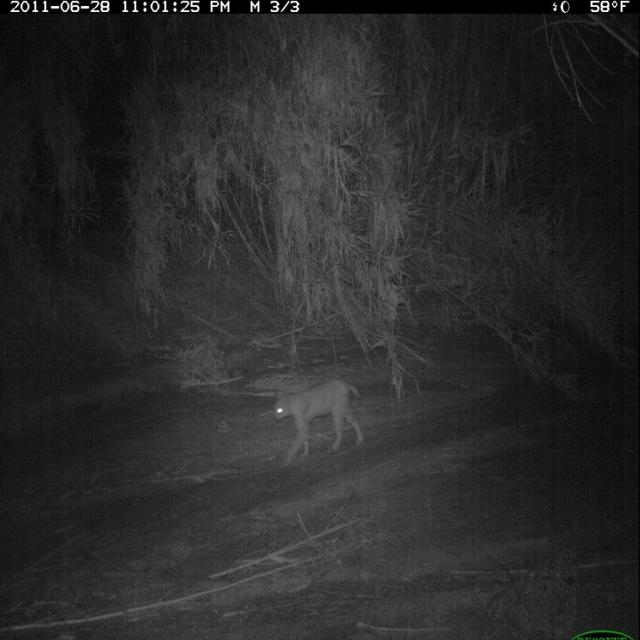bobcat: (271, 377, 369, 471)
